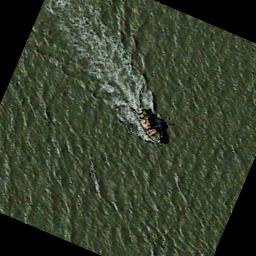boat: (124, 104, 172, 147)
